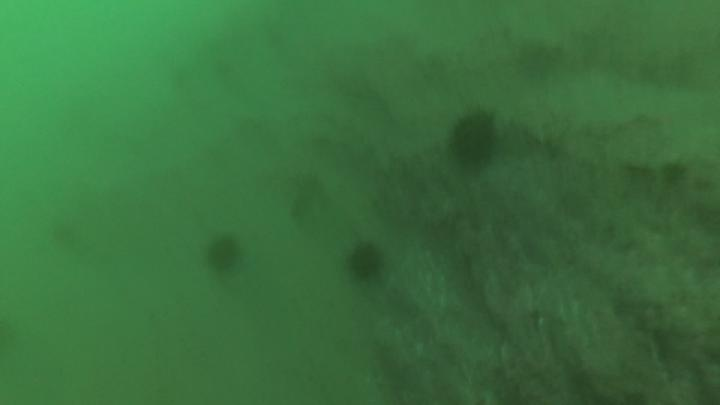echinus: (446, 107, 501, 172), (344, 239, 387, 285), (202, 232, 245, 277)
